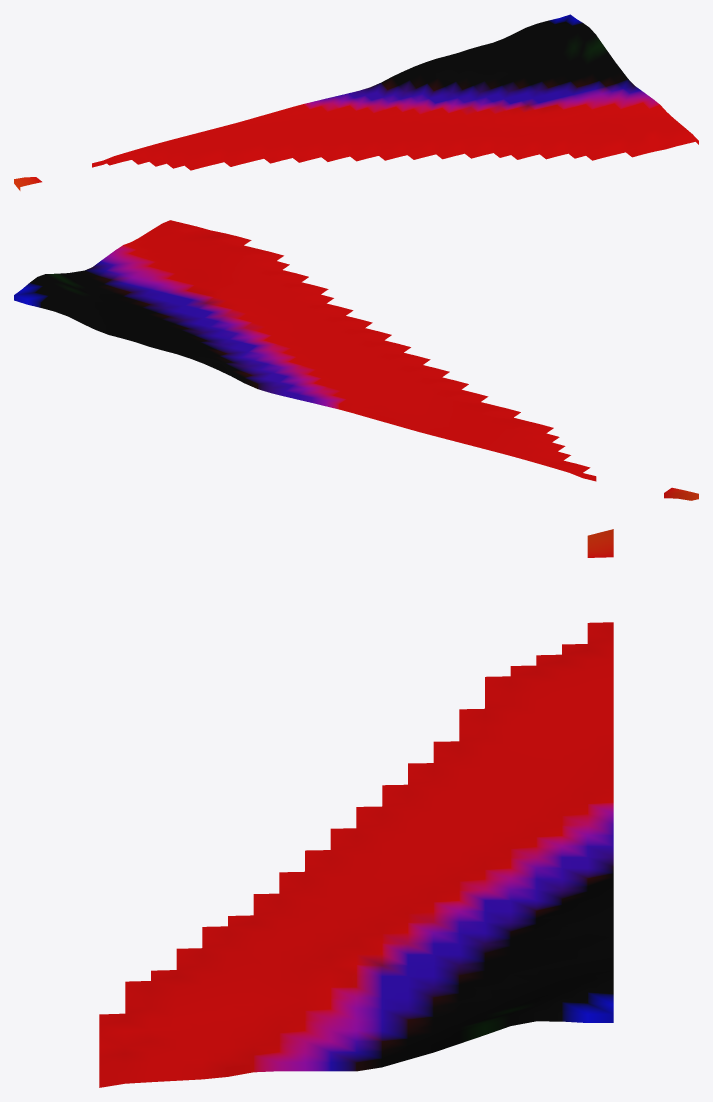
Rendered from coast_12_14.glb.
3 renders of one model, top to bottom at view 1: azimuth 30°, elevation 25°; view 2: azimuth 150°, elevation 25°; view 3: azimuth 270°, elevation 25°, orthographic. The views are drawn at different scales.
Parts seen in each view (by area): view 1: terrain; view 2: terrain; view 3: terrain.
Part boxes in pixels (x1=…): terrain: x1=14, y1=14, x2=698, y2=190; terrain: x1=14, y1=220, x2=698, y2=500; terrain: x1=99, y1=529, x2=613, y2=1087.
Size of the model in its own units: 200 by 12.93 by 80.
